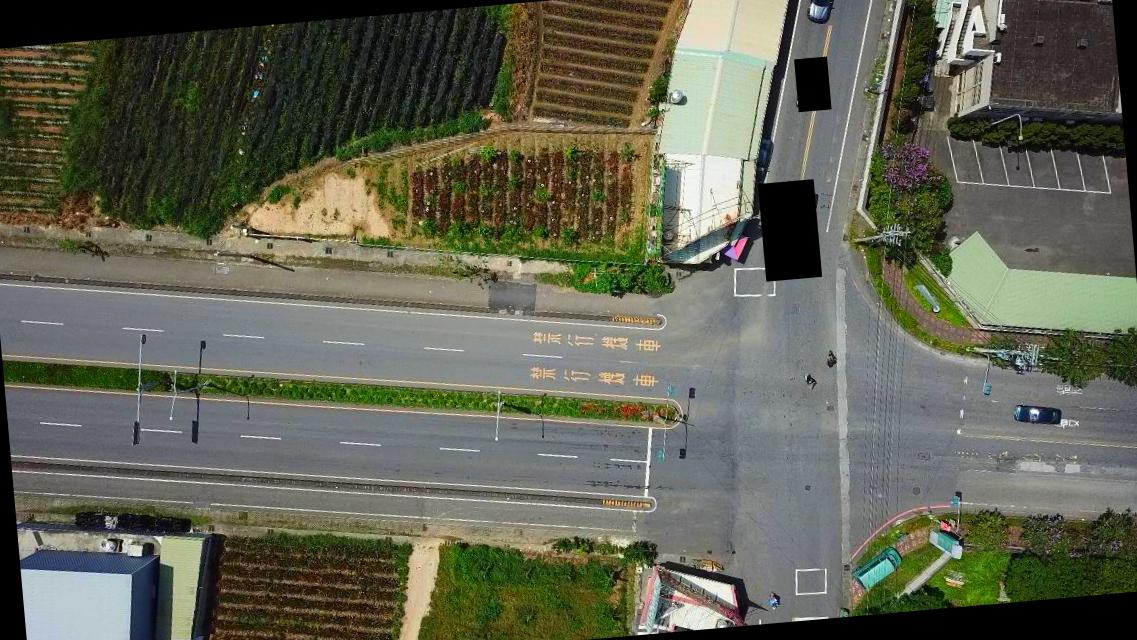vehicle: (850, 546, 904, 592), (1010, 402, 1061, 429), (802, 0, 842, 29)
